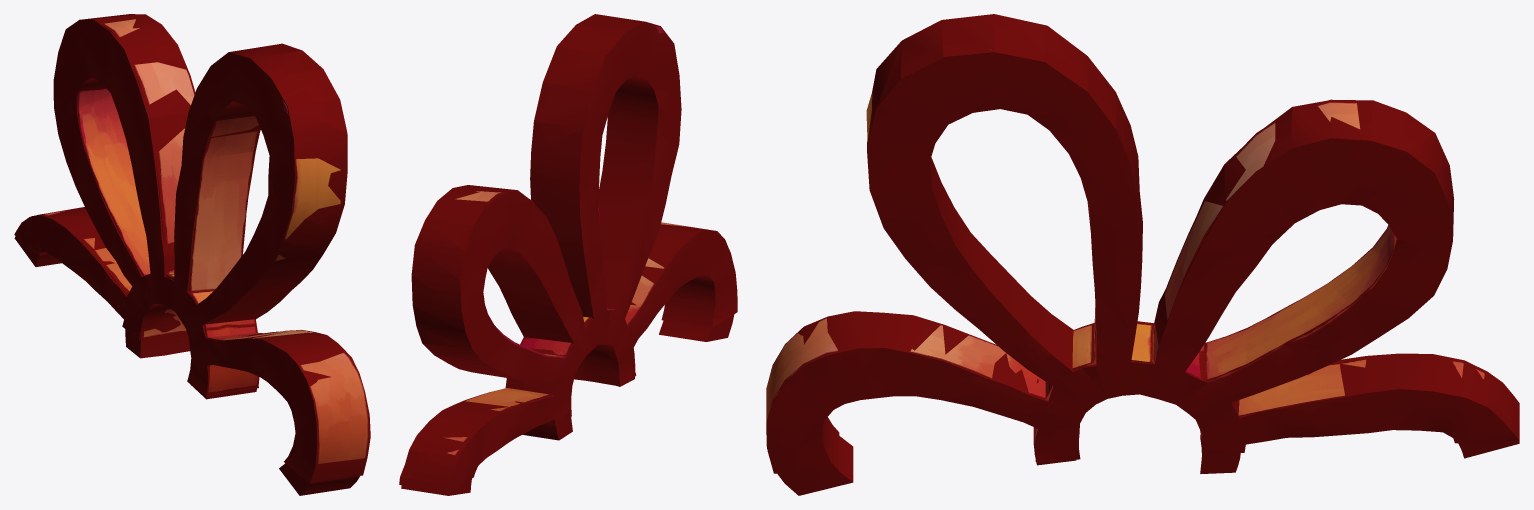
File: Flor1.obj
The picture shows the model from 3 angles, left to right: view 1: azimuth 30°, elevation 25°; view 2: azimuth 150°, elevation 25°; view 3: azimuth 270°, elevation 25°; orthographic projection. The views are drawn at different scales.
Parts seen in each view (by area): view 1: part3; view 2: part3; view 3: part3.
Part boxes in pixels (left/top/right/bottom): part3: left=14, top=14, right=370, bottom=495; part3: left=399, top=14, right=737, bottom=495; part3: left=766, top=14, right=1519, bottom=495.
Size of the model in its own units: 2.84 by 12.5 by 18.19.
Materials: 1 (1 with a texture image).
